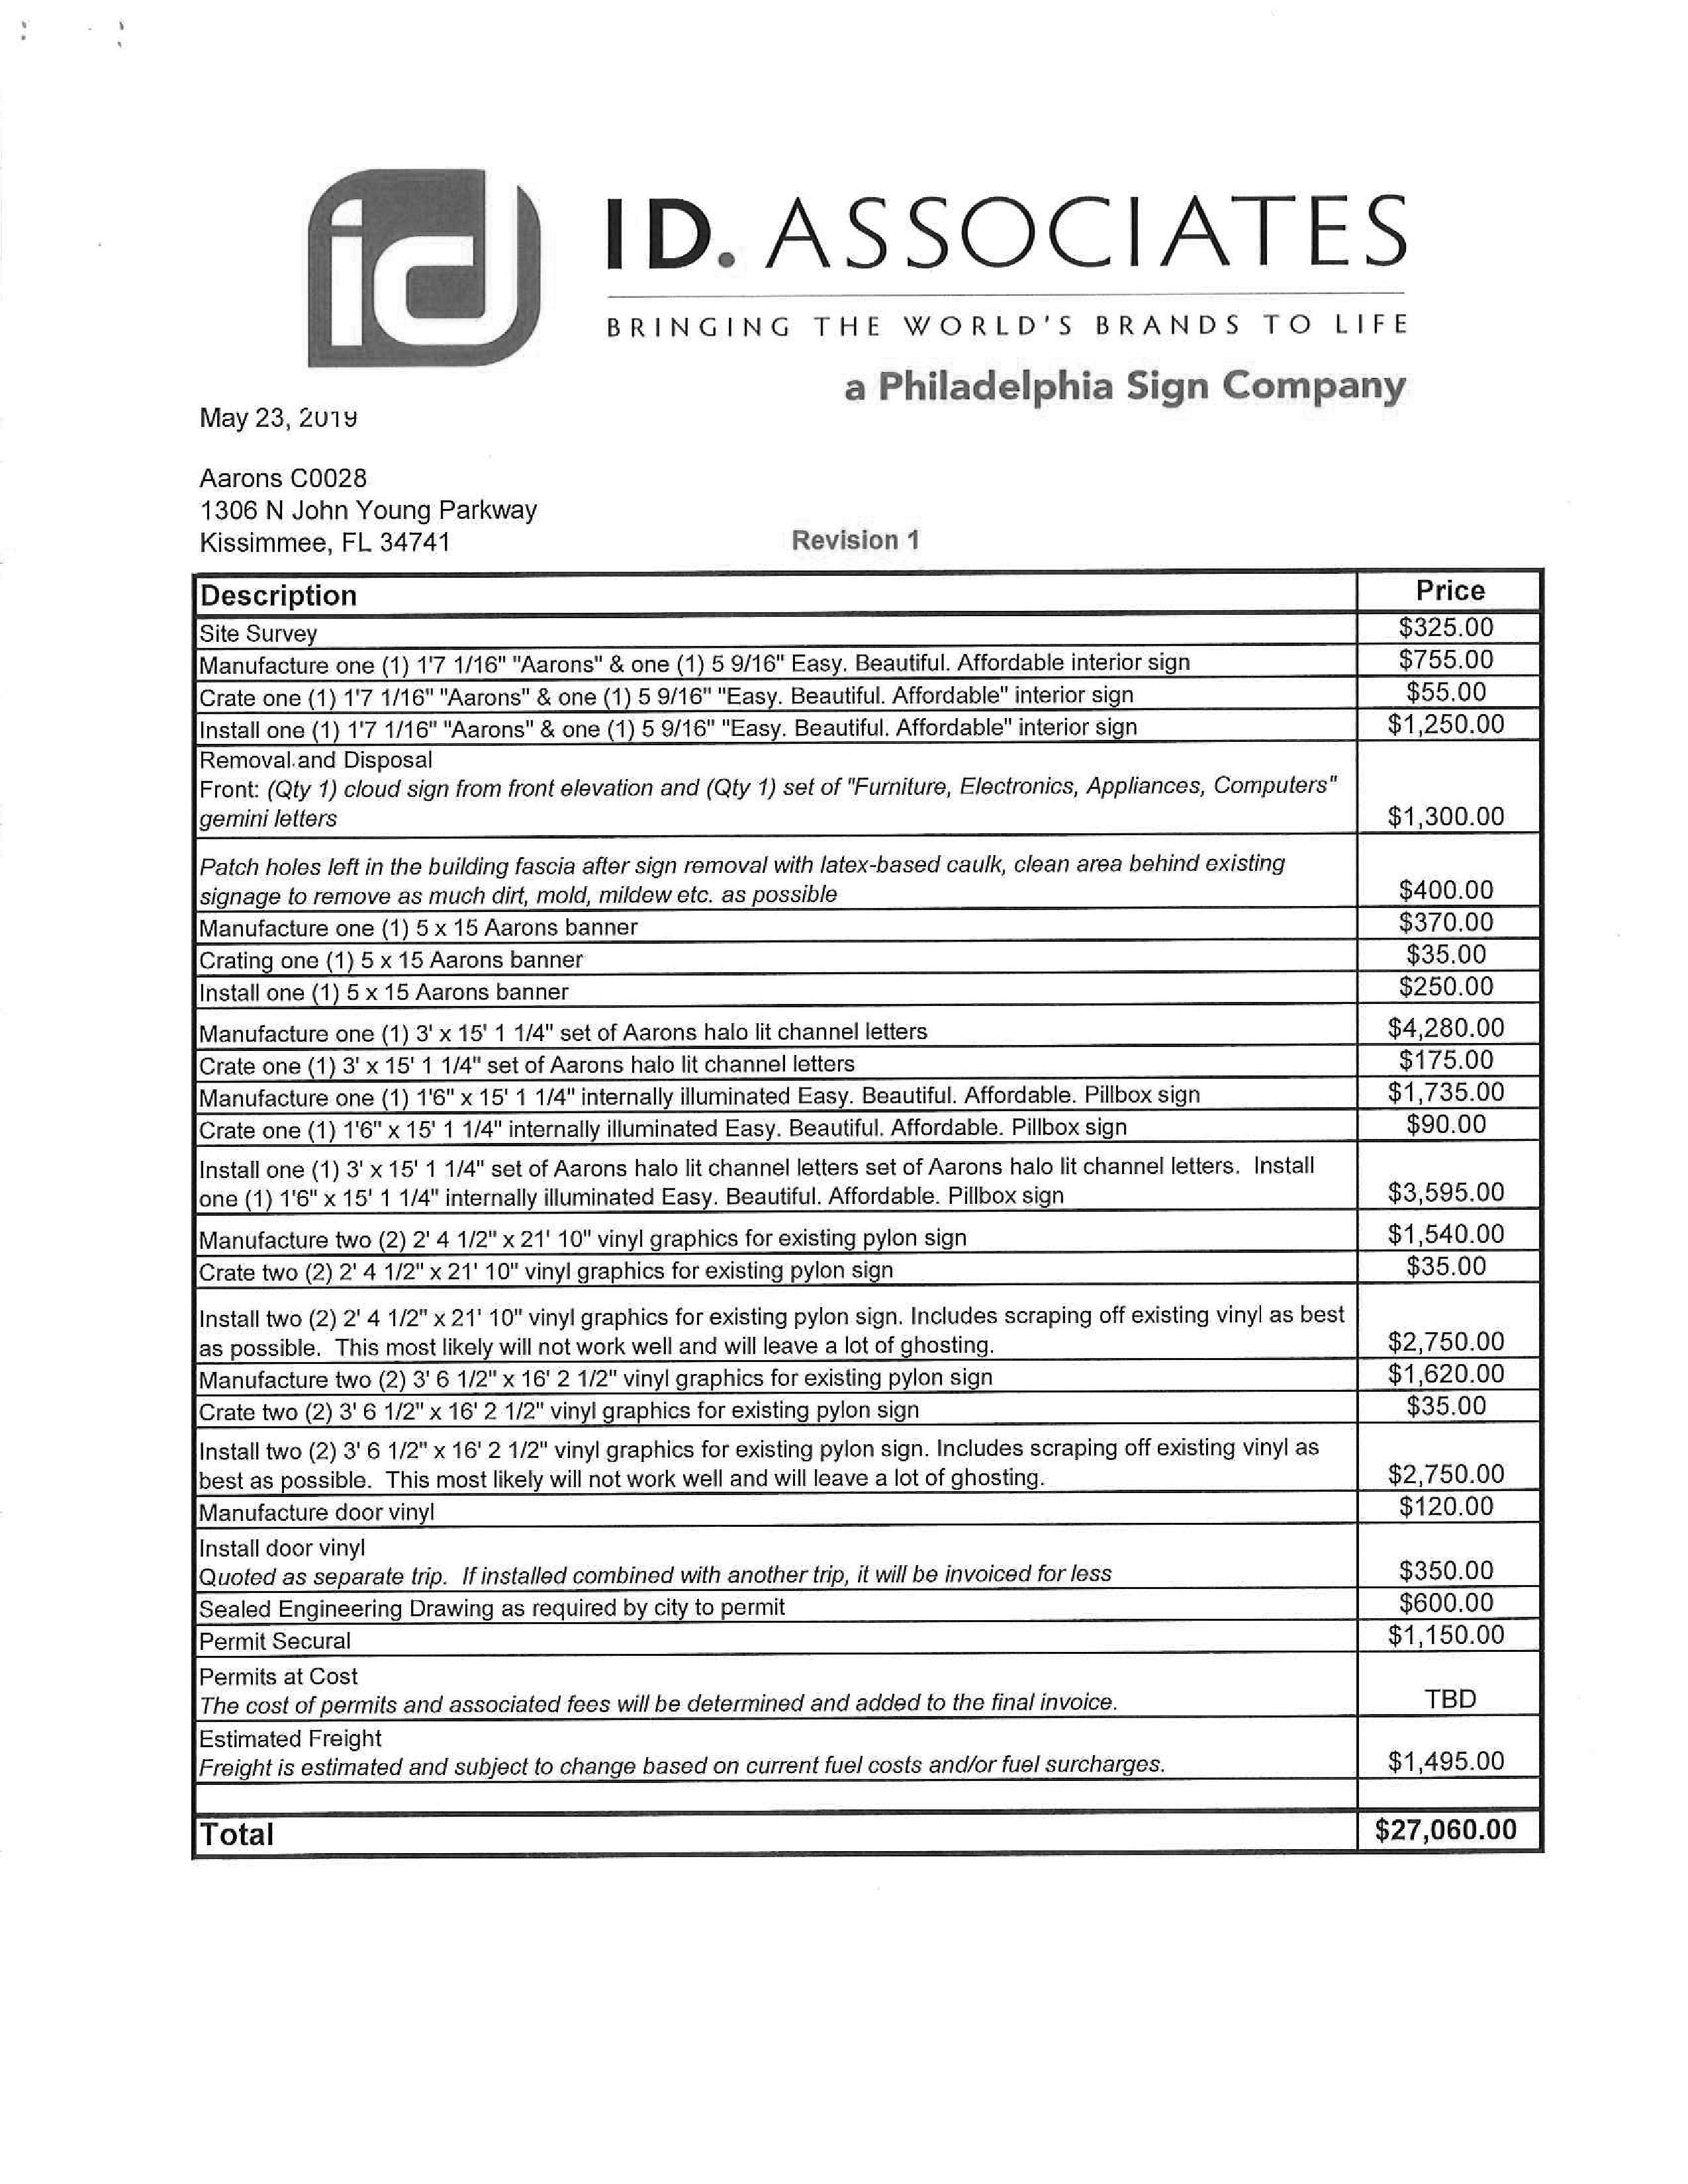B_Paragraph: (197, 464, 535, 558), (202, 401, 365, 431)
B_SubTitle: (599, 308, 1422, 346), (842, 363, 1408, 417), (791, 525, 927, 557)
B_Table: (190, 564, 1546, 1861)
B_Title: (596, 183, 1418, 278)
